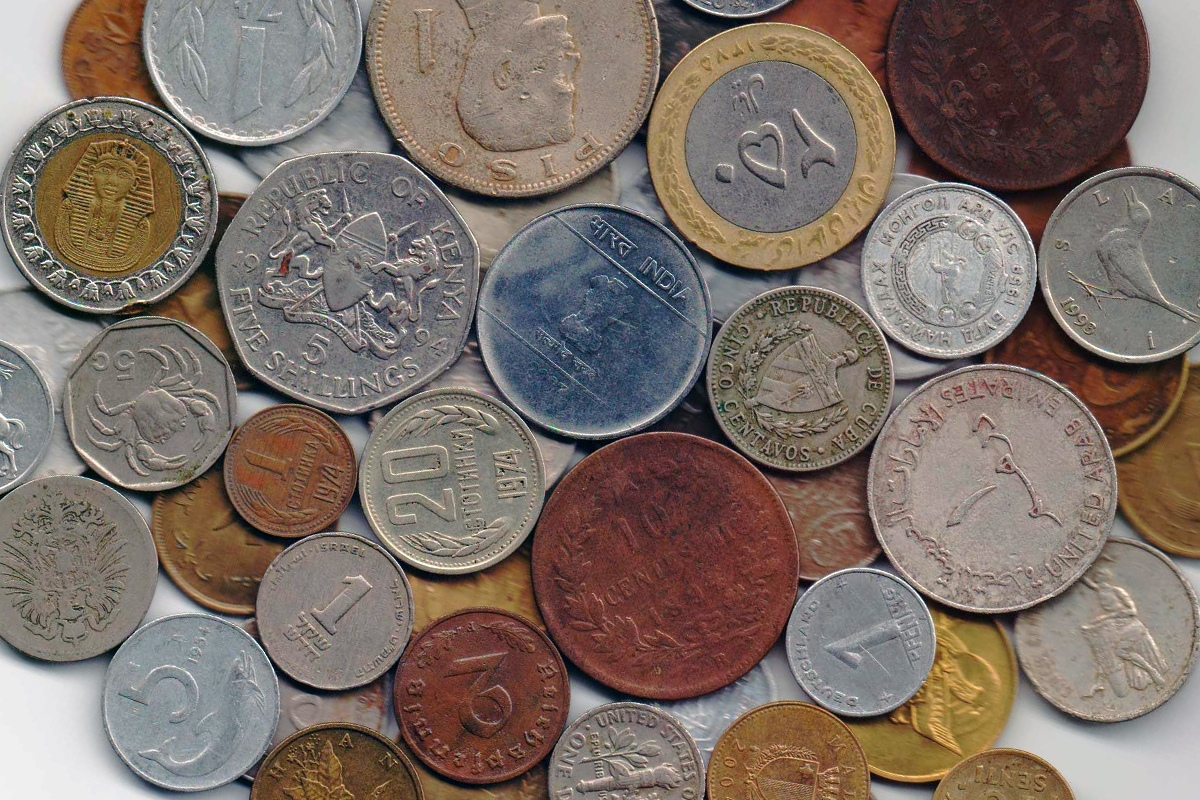coin: (528, 432, 801, 699), (214, 151, 479, 412), (864, 361, 1119, 616), (645, 22, 899, 272), (365, 1, 661, 201), (475, 201, 716, 438), (884, 1, 1152, 191), (3, 95, 221, 314), (357, 386, 547, 576), (1012, 538, 1200, 725), (707, 287, 896, 469), (390, 605, 573, 789), (1036, 164, 1200, 364), (100, 614, 281, 793), (140, 1, 366, 143), (858, 181, 1039, 358), (62, 315, 240, 490), (1, 475, 162, 664), (852, 610, 1019, 782), (256, 531, 412, 694), (786, 566, 937, 720), (148, 475, 299, 616), (222, 402, 357, 538), (702, 700, 874, 800), (544, 701, 708, 800), (250, 720, 427, 800), (1, 337, 56, 491), (933, 748, 1075, 800)
